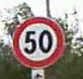limite 50: (13, 16, 65, 67)
